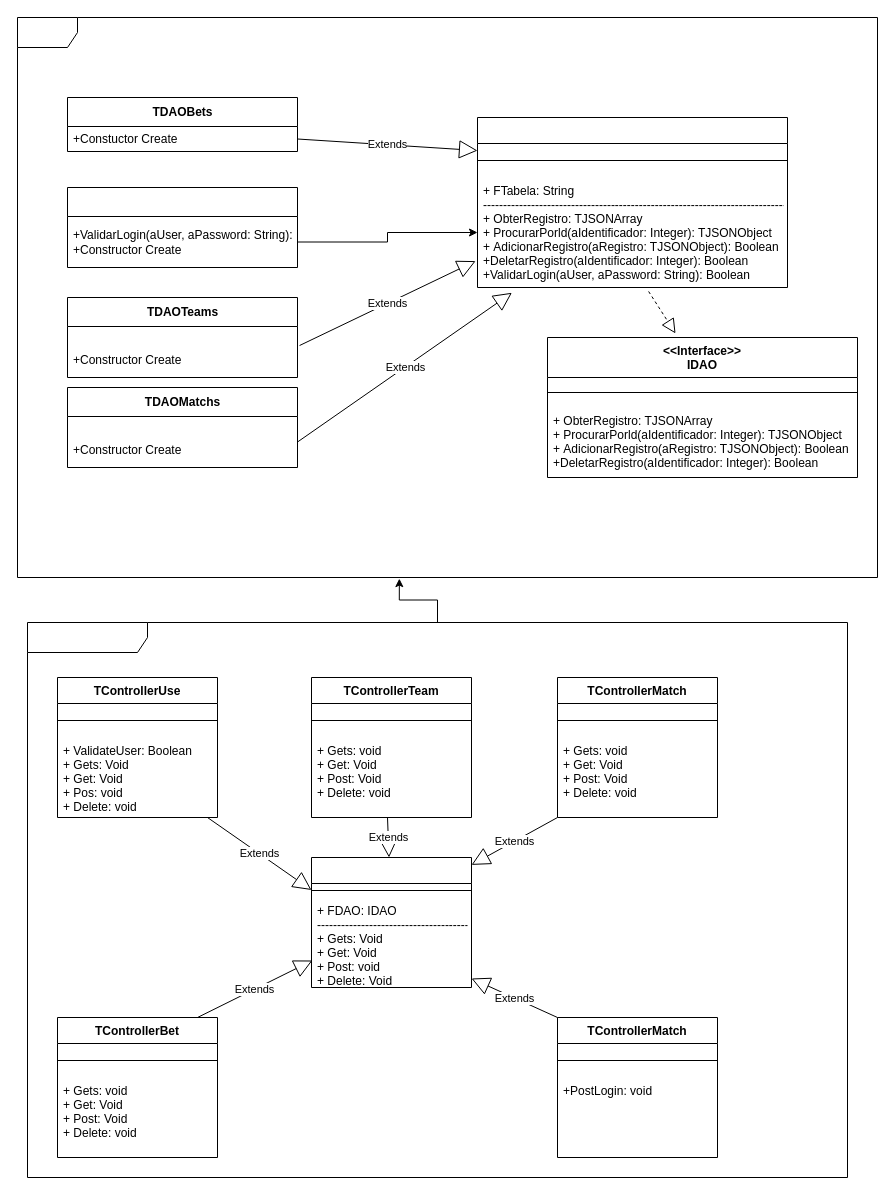
Some shapes in this 895 by 1195 pixel diagram are drawn without their labels. Here are the shapes that lost their labels. From the top down, the box of each, then its label:
(476, 116, 788, 288): TDaoBase
(66, 186, 298, 268): TDAOUser
(16, 16, 878, 578): dao - layer
(26, 622, 848, 1178): Controller - layer
(310, 856, 472, 988): TControllerBase
